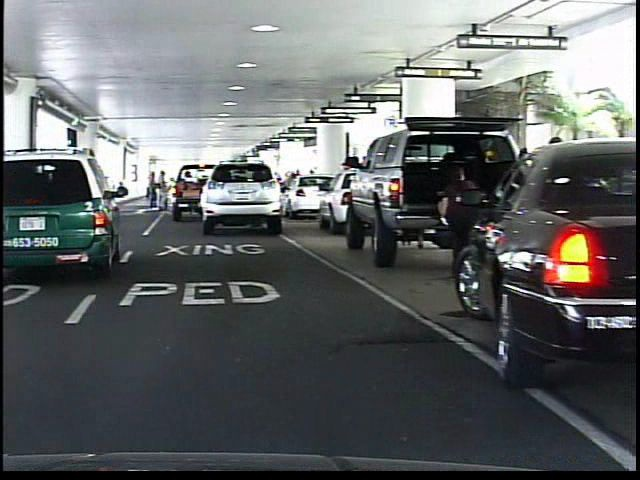person: (430, 157, 486, 275)
